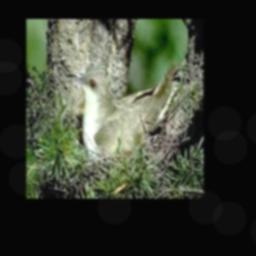Cuckoo: (65, 62, 175, 160)
